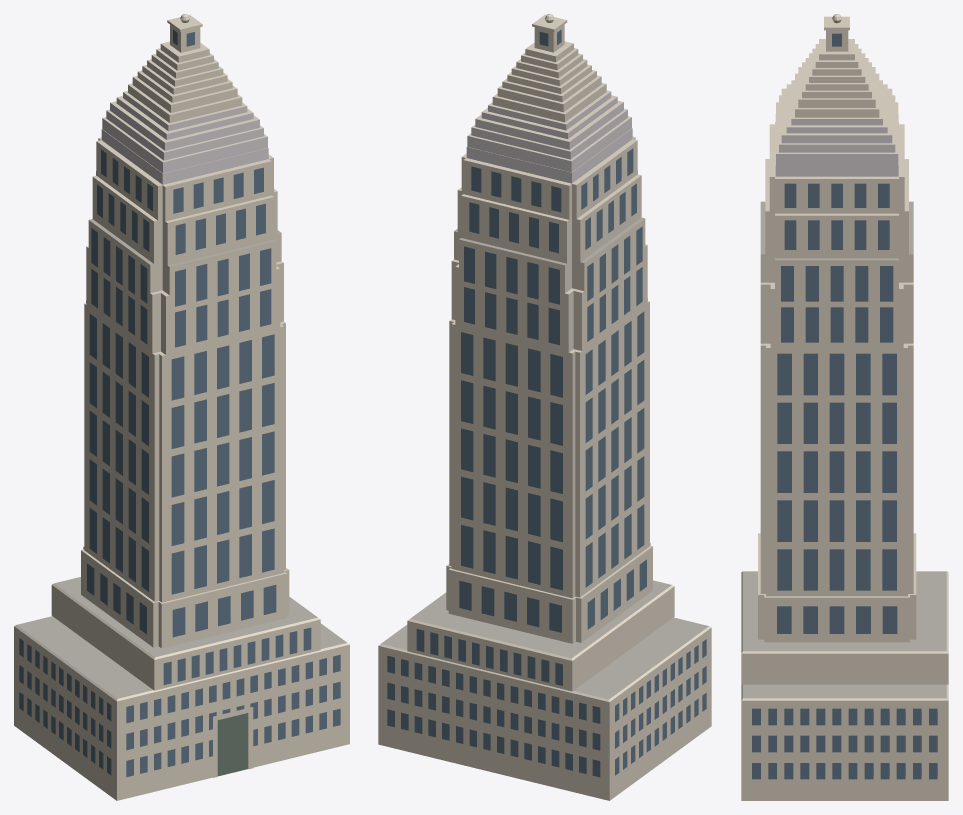
The model's file is pit-gulf-tower.glb.
The picture shows the model from 3 angles, left to right: view 1: azimuth 30°, elevation 25°; view 2: azimuth 150°, elevation 25°; view 3: azimuth 270°, elevation 25°; orthographic projection.
Parts seen in each view (by area): view 1: Gulf Tower; view 2: Gulf Tower; view 3: Gulf Tower.
Part boxes in pixels (<box>): Gulf Tower: <box>14,14,349,800</box>; Gulf Tower: <box>378,14,711,800</box>; Gulf Tower: <box>741,14,948,800</box>.
Size of the model in its own units: 60.38 by 179 by 46.39.
